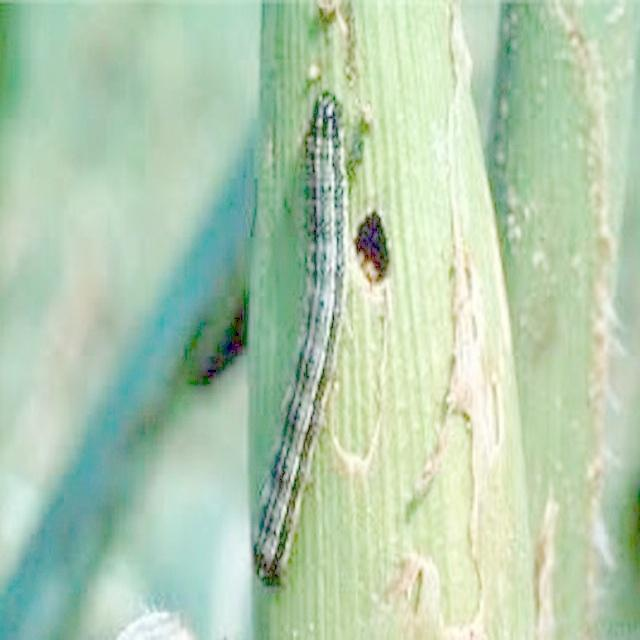gusano_cogollero: (246, 88, 354, 583)
